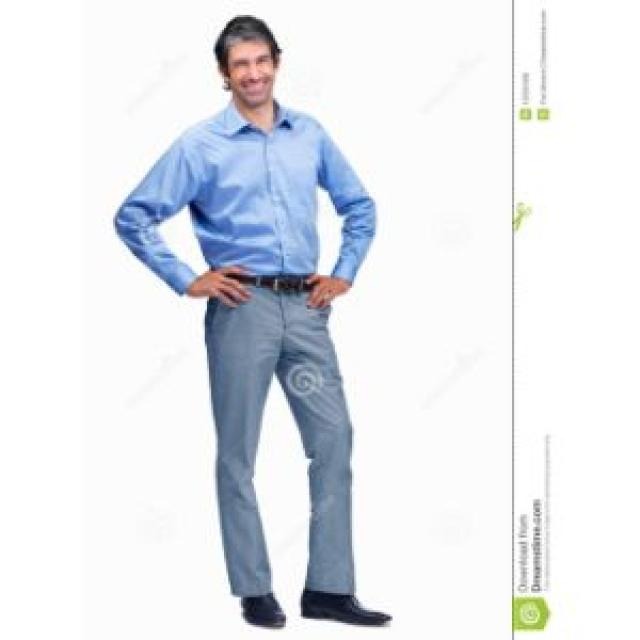adult: (115, 6, 410, 636)
